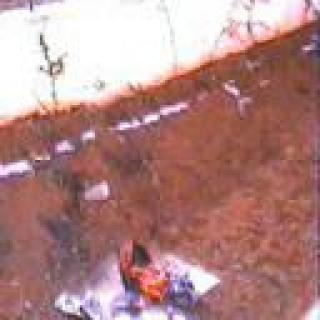fire: (117, 235, 186, 304)
